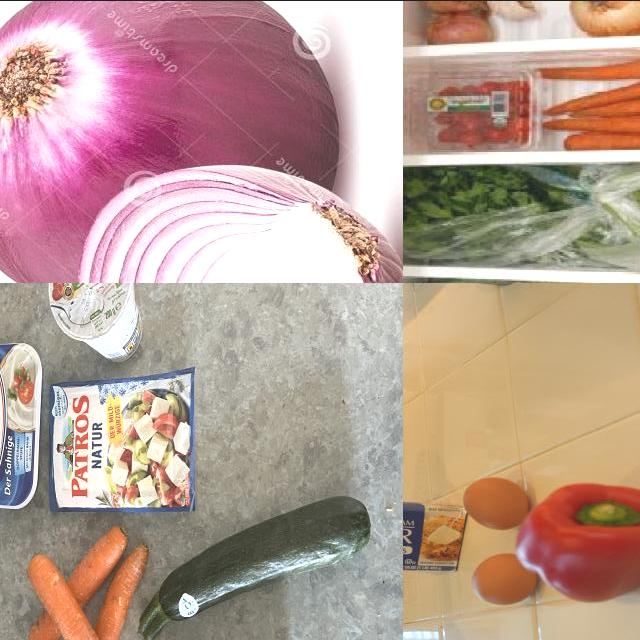bell_pepper: (522, 479, 640, 617)
carrot: (30, 508, 135, 640), (84, 539, 152, 640), (32, 558, 109, 640), (531, 56, 640, 83), (570, 80, 640, 119), (533, 115, 640, 137), (551, 135, 640, 155)
egg: (460, 473, 533, 533), (468, 553, 540, 608)
onion: (1, 1, 344, 283), (46, 159, 404, 283), (568, 1, 640, 36)
zucchini: (137, 487, 379, 640)
